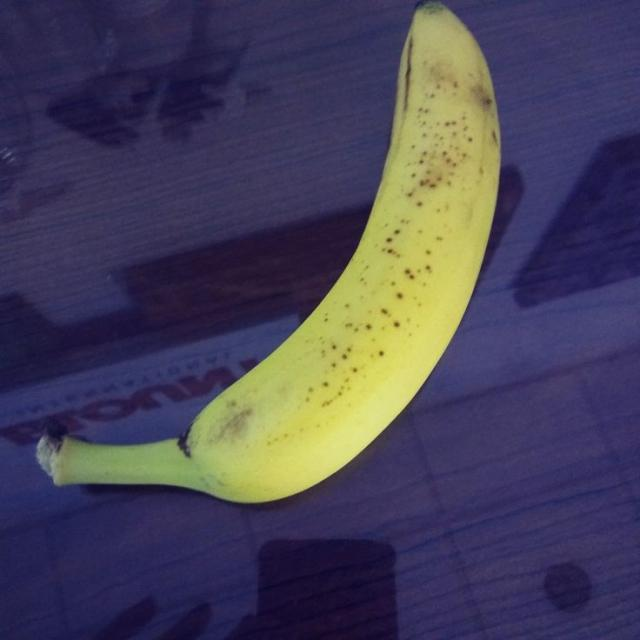Banana: (45, 1, 503, 502)
